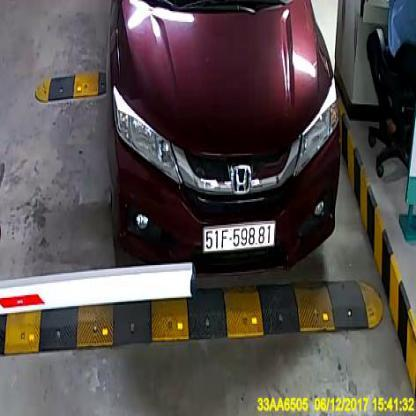biensoxe: (203, 222, 276, 250)
